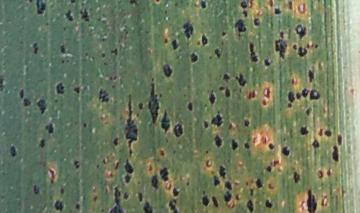tarspot: (124, 93, 138, 156), (147, 82, 163, 124), (106, 185, 129, 213), (273, 30, 288, 60), (159, 109, 172, 135), (234, 19, 248, 40), (247, 40, 259, 64), (293, 24, 309, 42), (306, 187, 317, 212), (182, 20, 195, 41), (35, 98, 48, 116), (210, 112, 224, 128), (78, 6, 90, 24), (46, 166, 56, 187), (97, 87, 110, 103), (161, 62, 173, 79), (234, 72, 247, 87), (54, 82, 67, 96), (167, 198, 179, 213), (63, 9, 75, 24), (35, 1, 46, 17), (331, 144, 340, 163), (218, 85, 231, 98), (123, 157, 133, 173), (159, 166, 169, 182), (173, 122, 183, 138), (150, 173, 159, 190), (8, 143, 18, 158), (306, 69, 315, 85), (54, 200, 65, 213), (297, 44, 306, 59), (298, 124, 309, 136), (280, 145, 291, 157), (230, 138, 240, 151), (213, 135, 223, 148), (171, 185, 181, 198), (309, 88, 319, 101), (286, 90, 296, 103), (208, 89, 216, 105), (292, 170, 301, 184), (210, 195, 219, 209), (44, 123, 55, 134), (246, 198, 254, 213), (142, 201, 152, 213), (189, 51, 199, 63), (246, 89, 256, 101), (201, 31, 208, 48), (123, 172, 132, 185), (201, 195, 210, 208), (222, 71, 231, 84), (254, 176, 262, 190), (219, 165, 226, 181), (212, 173, 220, 187), (310, 138, 320, 149), (300, 88, 310, 99), (304, 106, 314, 117), (213, 47, 222, 59), (58, 43, 67, 55), (32, 41, 39, 56), (17, 88, 25, 101), (273, 6, 283, 16), (223, 180, 233, 190), (264, 198, 273, 209), (262, 56, 271, 67), (252, 17, 261, 28), (185, 101, 194, 112), (223, 191, 232, 202), (271, 158, 280, 168), (22, 98, 31, 108), (108, 47, 118, 56), (137, 191, 144, 203), (73, 160, 80, 172), (171, 39, 178, 51), (147, 162, 154, 174), (267, 141, 276, 150), (323, 129, 333, 137), (287, 1, 295, 11), (112, 136, 120, 146), (201, 119, 209, 129), (38, 138, 46, 148), (32, 184, 40, 194), (336, 133, 342, 146), (243, 141, 251, 150), (73, 86, 81, 95), (158, 148, 166, 157), (325, 167, 332, 177), (127, 1, 138, 7), (1, 75, 5, 91), (265, 164, 272, 173), (316, 127, 323, 136), (122, 191, 129, 200), (199, 1, 206, 10), (248, 187, 254, 197), (242, 9, 248, 19), (295, 91, 301, 101), (313, 43, 320, 51), (137, 102, 144, 110), (240, 1, 247, 9), (261, 98, 268, 106), (317, 169, 323, 178), (242, 118, 249, 125), (291, 43, 297, 51), (75, 203, 81, 211), (221, 30, 227, 38), (286, 103, 294, 109), (268, 1, 275, 7), (59, 188, 65, 195), (100, 53, 107, 59), (163, 37, 168, 44), (196, 40, 201, 46), (306, 42, 310, 49), (153, 1, 162, 4), (204, 149, 209, 154), (82, 122, 86, 128), (69, 1, 75, 4), (28, 1, 33, 4)
